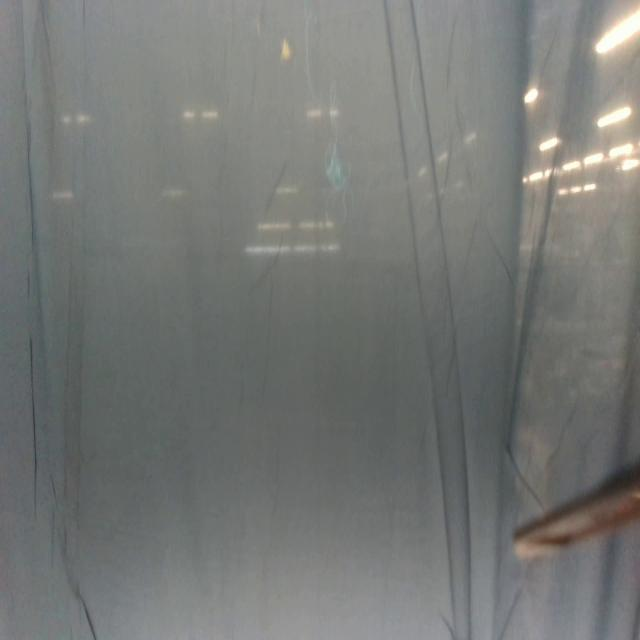crease: (382, 0, 476, 636), (76, 592, 98, 640)
hole: (27, 336, 39, 528), (24, 116, 36, 251), (25, 267, 34, 302)
